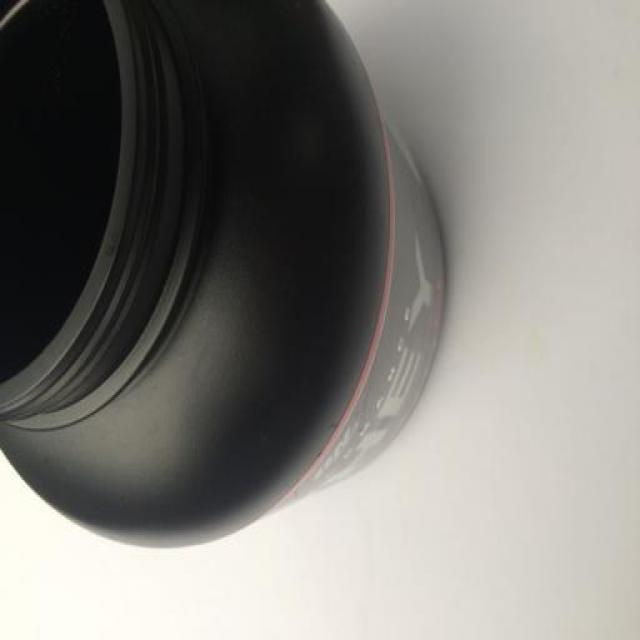plastic: (2, 1, 458, 532)
